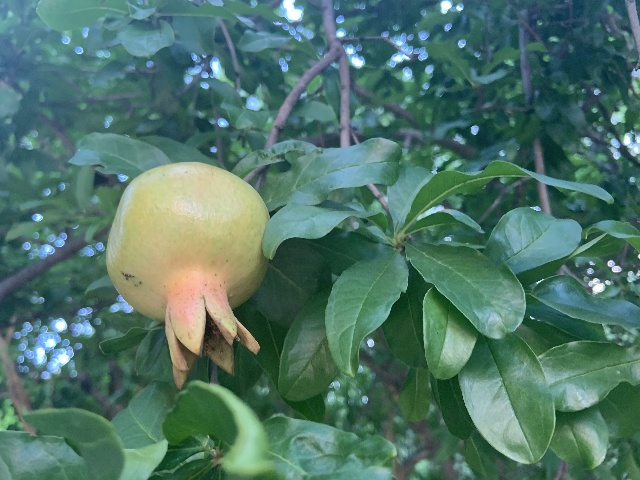mid-growth: (104, 161, 270, 385)
